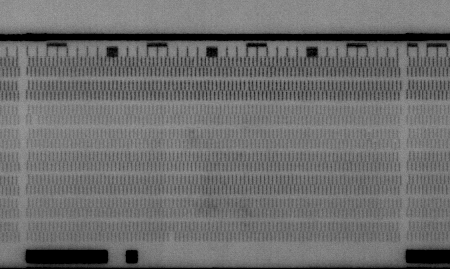Broken hole: (29, 116, 41, 128), (167, 232, 177, 243)
Oblique printing: (369, 140, 383, 153), (389, 138, 402, 152), (363, 127, 375, 141)
